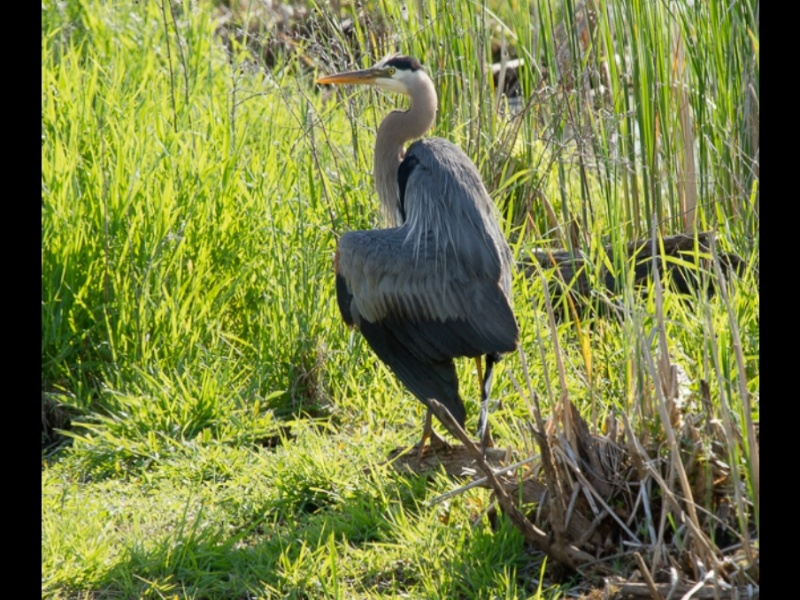heron: (311, 51, 521, 454)
